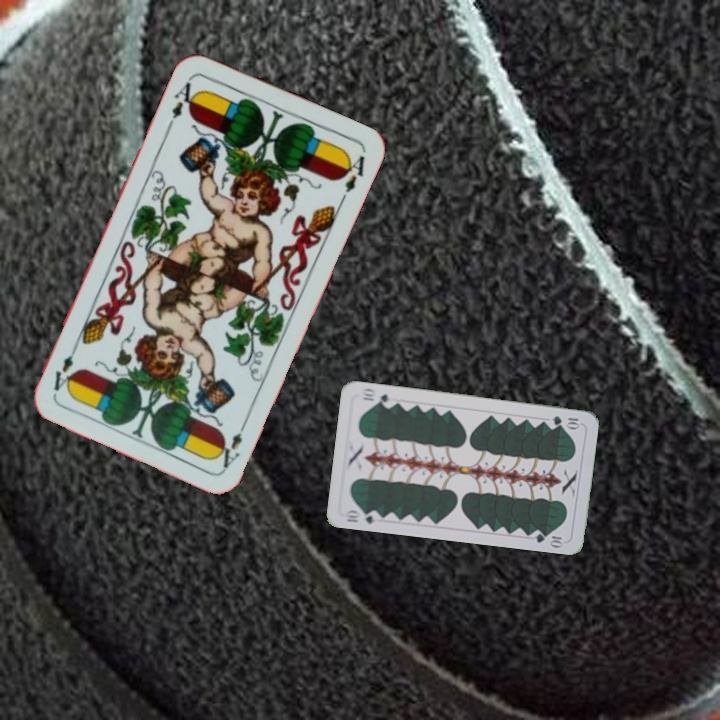EA: (212, 416, 250, 471), (167, 74, 201, 121)
G10: (341, 506, 382, 526), (548, 412, 583, 430)
